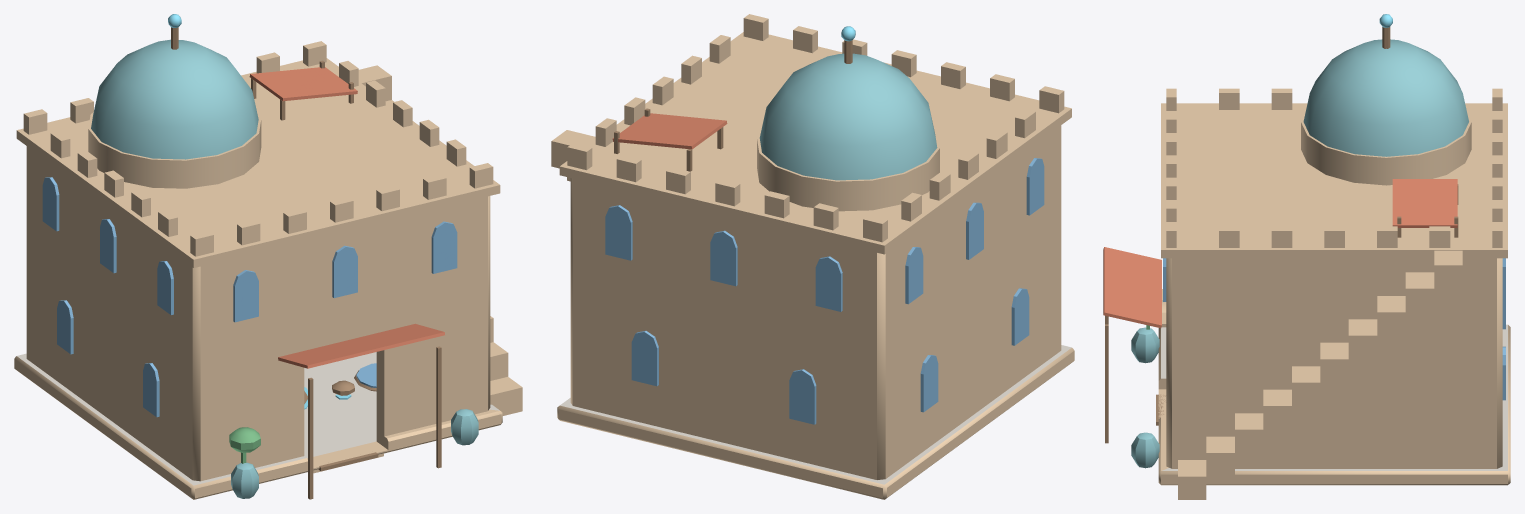
Rendered from SirocoCasa.fbx.
The picture shows the model from 3 angles, left to right: view 1: azimuth 30°, elevation 25°; view 2: azimuth 150°, elevation 25°; view 3: azimuth 270°, elevation 25°; orthographic projection. The views are drawn at different scales.
Parts seen in each view (by area): view 1: SirocoCasa_Base_Cuerpo, SirocoCasa_Base_Techo, SirocoCasa_Base_Cristal, SirocoCasa_Base_Forro, SirocoCasa_Base_Toldo, SirocoCasa_Base_Metal, SirocoCasa_Base_Hoja; view 2: SirocoCasa_Base_Cuerpo, SirocoCasa_Base_Techo, SirocoCasa_Base_Cristal, SirocoCasa_Base_Toldo, SirocoCasa_Base_Forro, SirocoCasa_Base_Metal; view 3: SirocoCasa_Base_Cuerpo, SirocoCasa_Base_Techo, SirocoCasa_Base_Toldo, SirocoCasa_Base_Forro, SirocoCasa_Base_Metal, SirocoCasa_Base_Cristal.
Part boxes in pixels (<box>): SirocoCasa_Base_Cuerpo: <box>14,41,522,499</box>; SirocoCasa_Base_Techo: <box>91,39,478,498</box>; SirocoCasa_Base_Cristal: <box>42,177,457,417</box>; SirocoCasa_Base_Forro: <box>17,352,499,485</box>; SirocoCasa_Base_Toldo: <box>249,67,444,368</box>; SirocoCasa_Base_Metal: <box>171,27,441,499</box>; SirocoCasa_Base_Hoja: <box>229,427,260,463</box>; SirocoCasa_Base_Cuerpo: <box>551,14,1074,499</box>; SirocoCasa_Base_Techo: <box>759,53,937,180</box>; SirocoCasa_Base_Cristal: <box>605,158,1044,424</box>; SirocoCasa_Base_Toldo: <box>612,113,727,149</box>; SirocoCasa_Base_Forro: <box>560,345,1071,484</box>; SirocoCasa_Base_Metal: <box>614,40,852,171</box>; SirocoCasa_Base_Cuerpo: <box>1158,88,1510,499</box>; SirocoCasa_Base_Techo: <box>1131,39,1468,468</box>; SirocoCasa_Base_Toldo: <box>1103,179,1457,328</box>; SirocoCasa_Base_Forro: <box>1161,324,1507,470</box>; SirocoCasa_Base_Metal: <box>1105,27,1458,443</box>; SirocoCasa_Base_Cristal: <box>1163,258,1505,400</box>.
Size of the model in its own units: 2970 by 3184 by 3146.
